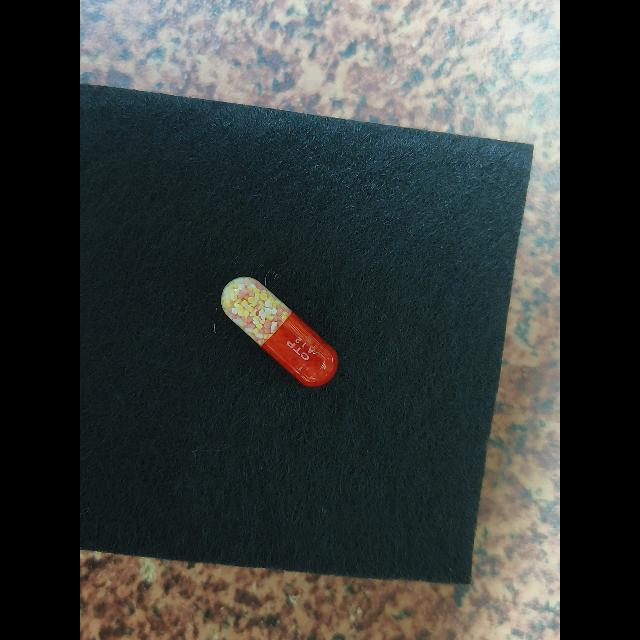Intact Capsule: (221, 276, 339, 387)
